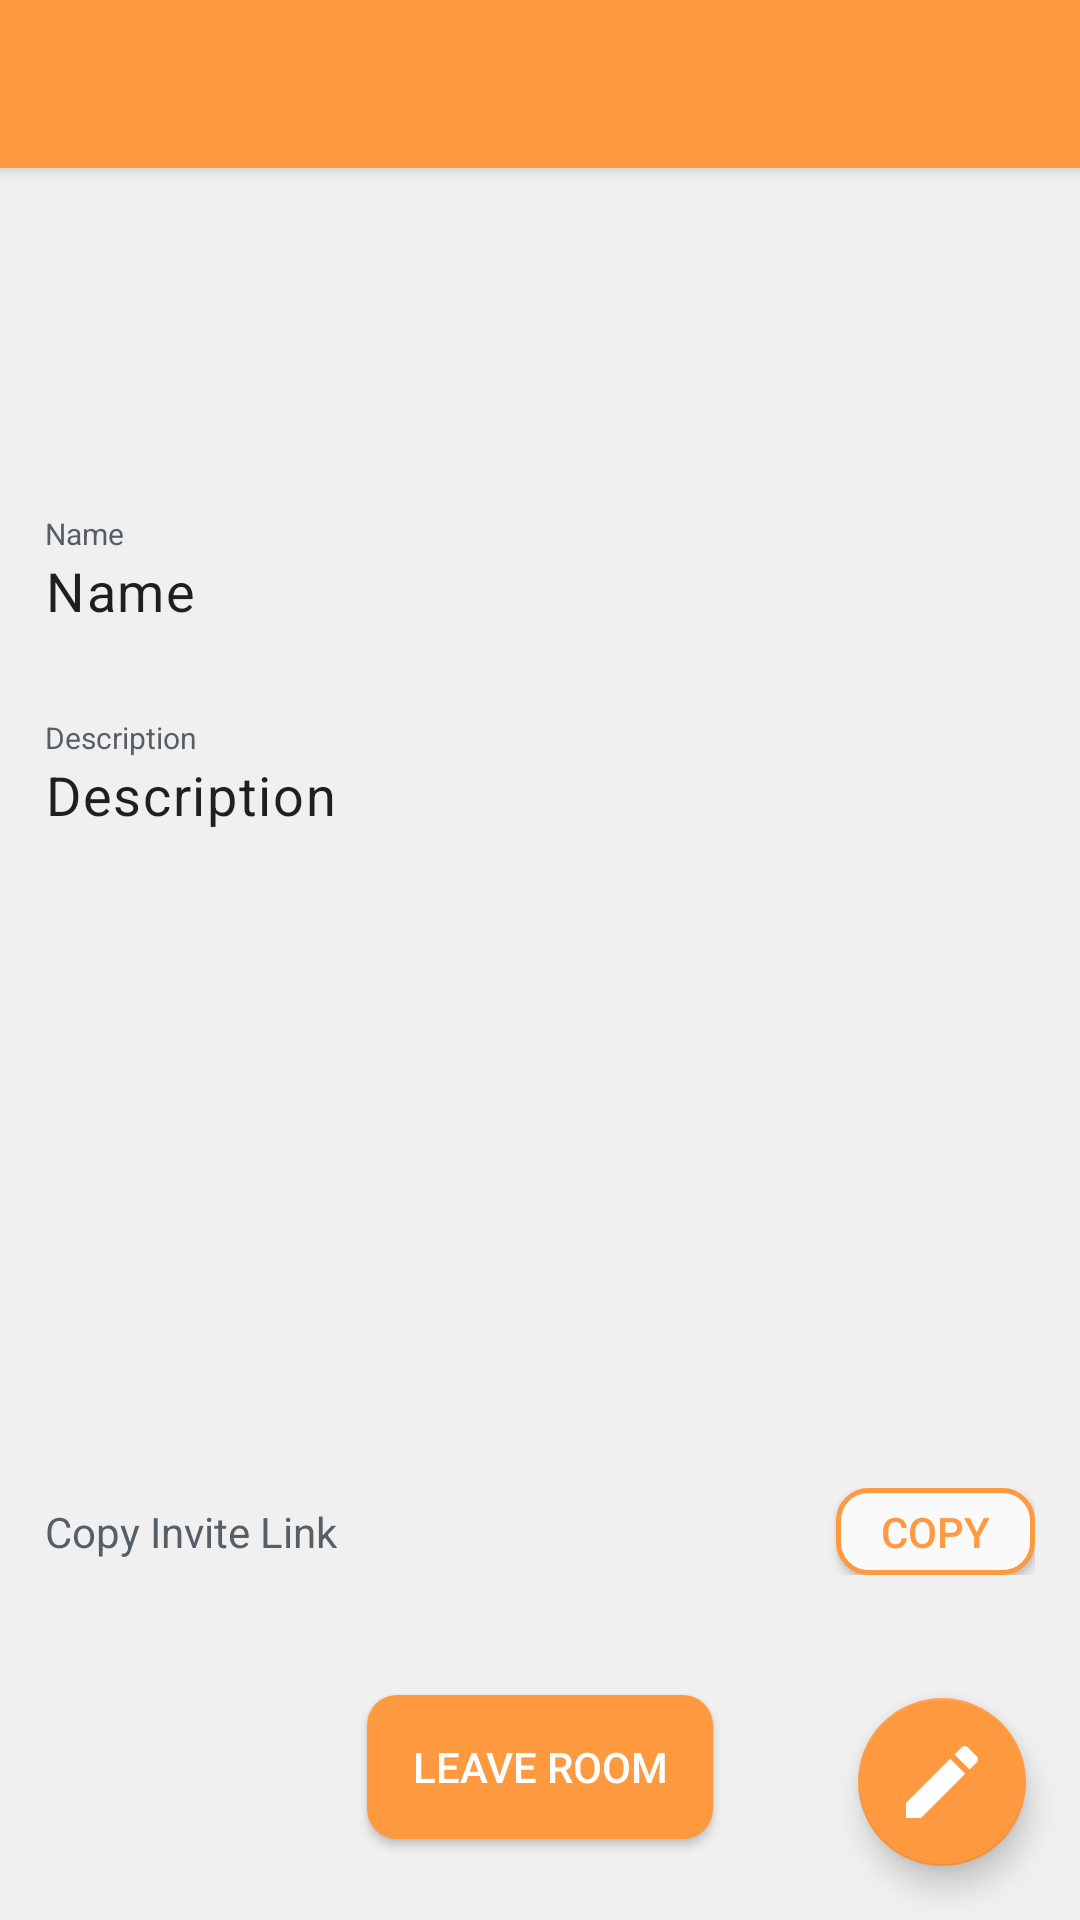

Icons on this 1080w x 1920h Android screen, each with the point to tap as [x,y]:
edit: [942,1782]
